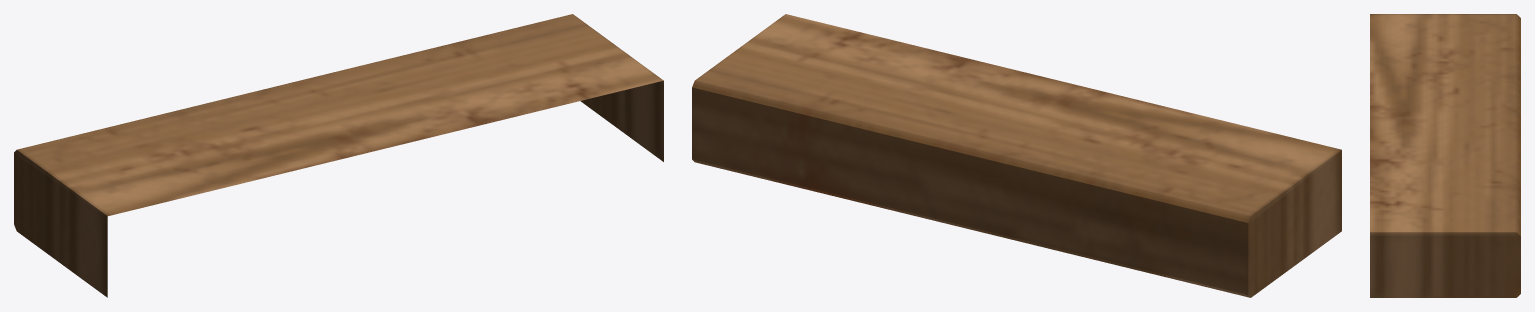
File: SM_Planche.fbx
3 renders of one model, left to right at view 1: azimuth 30°, elevation 25°; view 2: azimuth 150°, elevation 25°; view 3: azimuth 270°, elevation 25°, orthographic. The views are drawn at different scales.
Visible parts, largest first — view 1: Box072; view 2: Box072; view 3: Box072.
Boxes of the visible parts, x1,y1,x2,y2 form: Box072: (14, 14, 663, 297); Box072: (692, 14, 1341, 297); Box072: (1370, 14, 1520, 297).
Bounding box in the file's own units: 100 × 29.18 × 14.03.
1 material, 1 textured.
